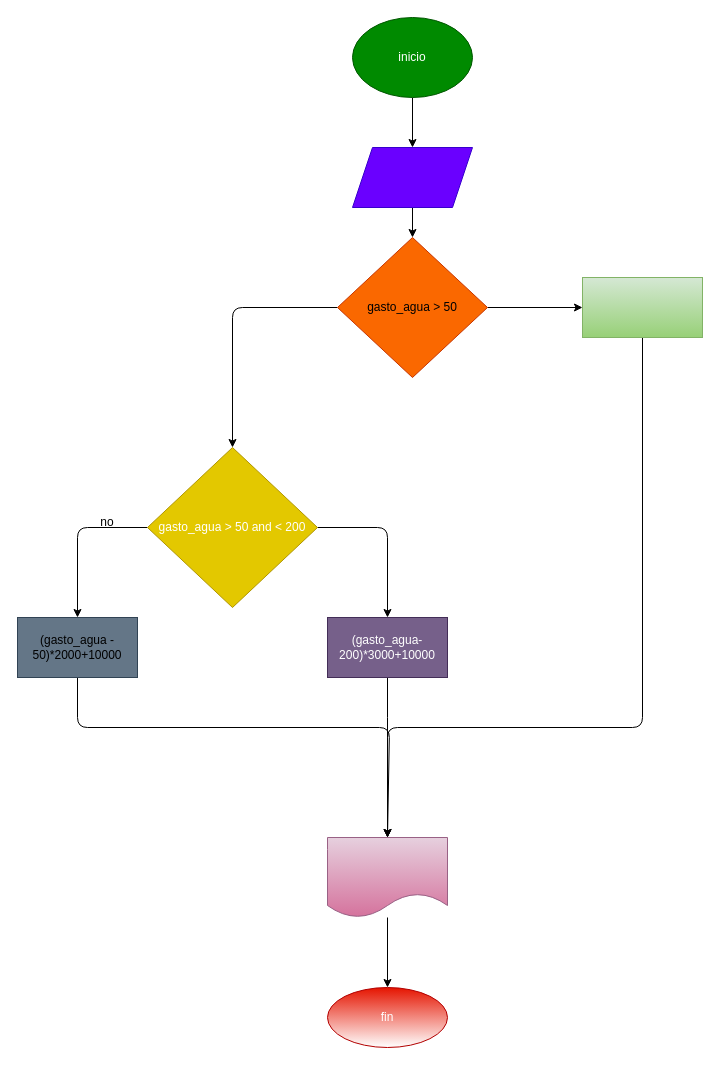
This 720x1065 diagram has some shape labels left out. Here are the shapes that lost their labels. From the top down, the box of each, then its label:
(352, 146, 472, 208): gasto_agau
(582, 276, 702, 338): gasto_agua=10000
(326, 836, 448, 918): costo_agua
